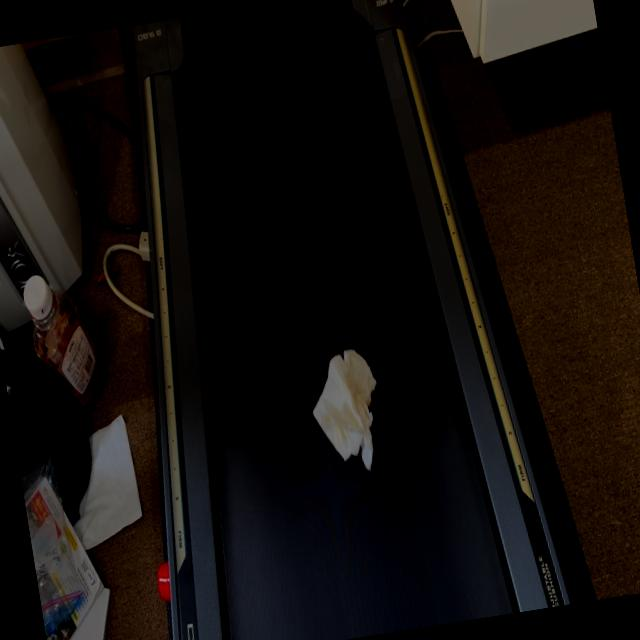Recycle: (301, 337, 393, 482)
